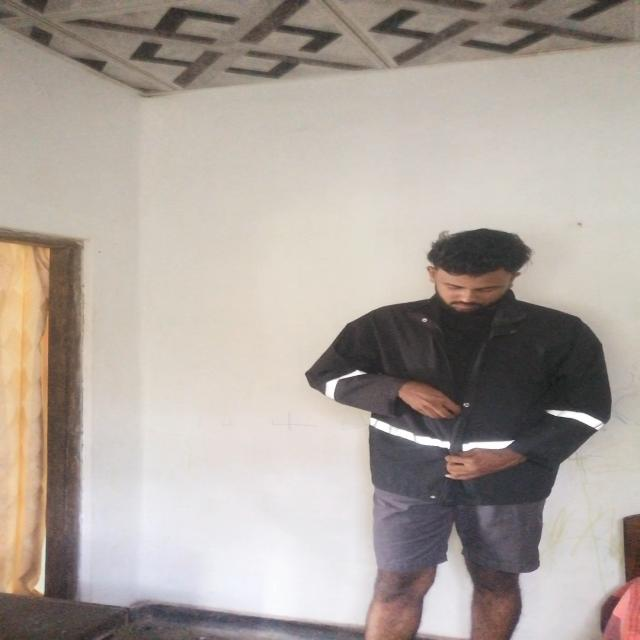Jacket_Wearer: (336, 290, 640, 489)
